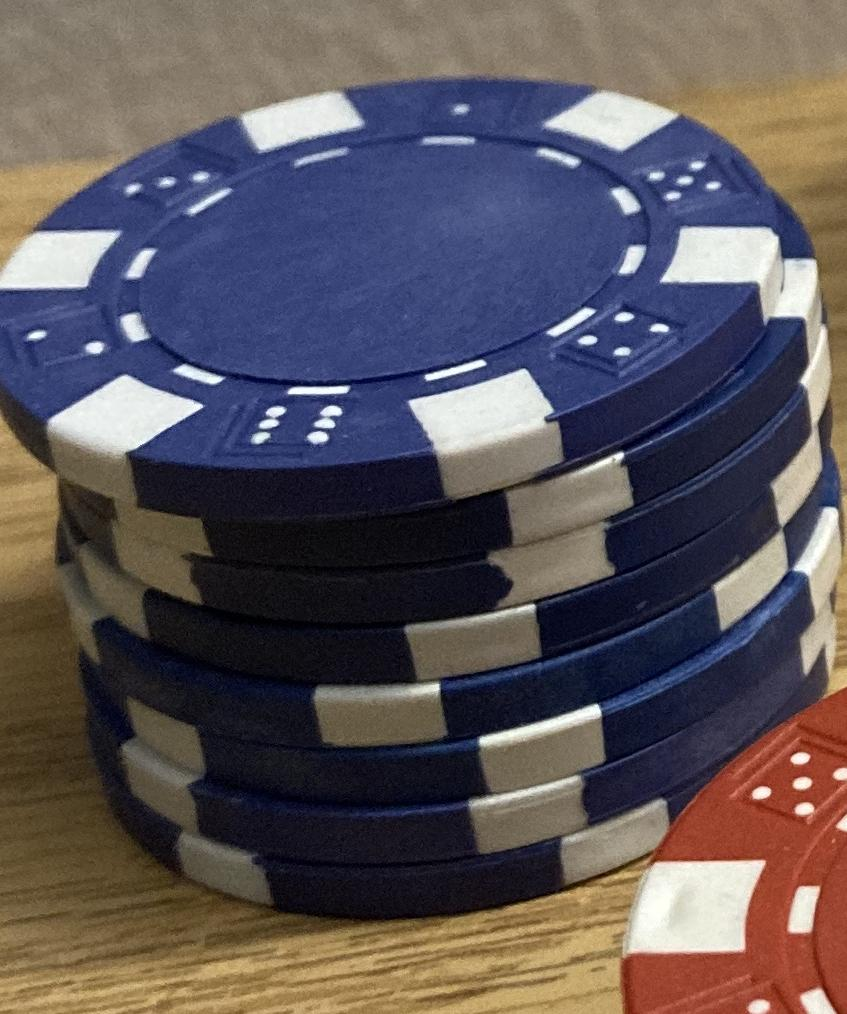Chip: (1, 1, 847, 1014)
